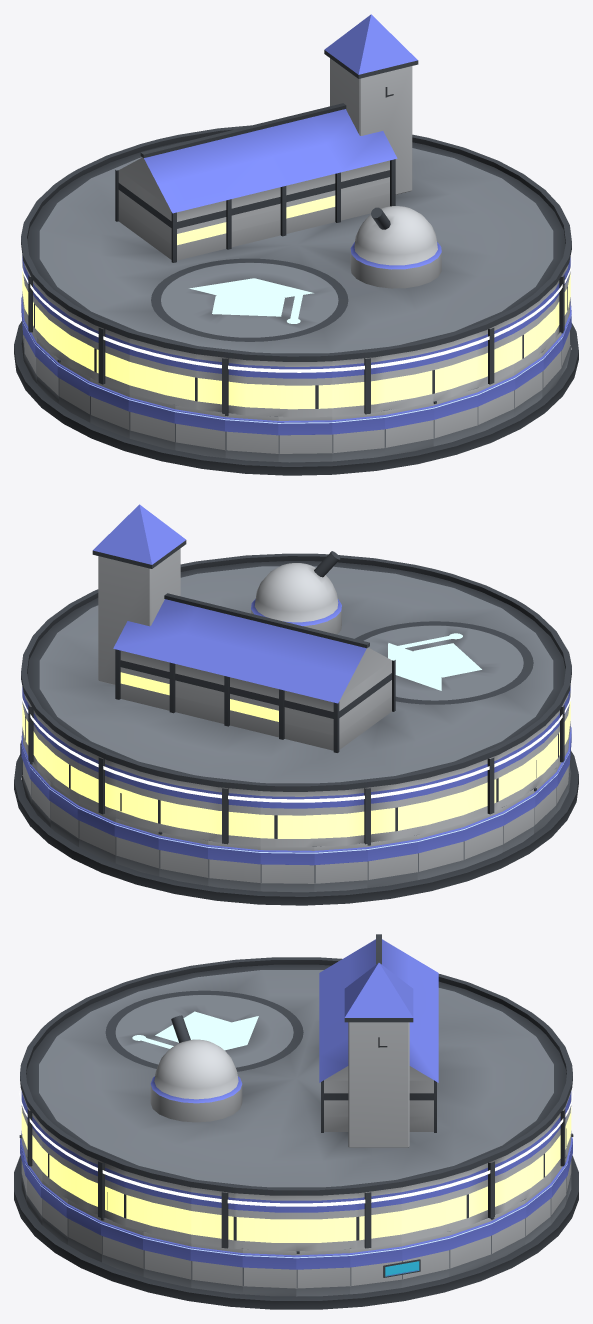
File: academy_m.glb
3 views of the same model, one above another, from view 1: azimuth 30°, elevation 25°; view 2: azimuth 150°, elevation 25°; view 3: azimuth 270°, elevation 25° (orthographic).
Parts seen in each view (by area): view 1: Roof, Base, Upper_21, Upper_20, Upper_22, Upper_19, Upper_23, Wall_21, Upper_18, Wall_20, Wall_22, Upper_24 (+19 smaller); view 2: Roof, Base, Upper_10, Upper_11, Upper_09, Upper_12, Upper_08, Wall_10, Upper_13, Wall_11, Wall_09, Wall_12 (+19 smaller); view 3: Roof, Base, Upper_00, Upper_31, Upper_01, Upper_30, Upper_02, Upper_29, Wall_31, Wall_00, Wall_30, Upper_03 (+20 smaller).
Part boxes in pixels (<box>): Roof: <box>21,14,571,361</box>; Base: <box>14,321,578,475</box>; Upper_21: <box>278,361,332,417</box>; Upper_20: <box>225,358,278,416</box>; Upper_22: <box>332,356,384,416</box>; Upper_19: <box>175,350,225,413</box>; Upper_23: <box>384,347,433,410</box>; Wall_21: <box>278,416,332,462</box>; Upper_18: <box>129,338,175,404</box>; Wall_20: <box>225,413,278,461</box>; Wall_22: <box>332,410,384,461</box>; Upper_24: <box>433,333,476,401</box>; Roof: <box>21,504,571,791</box>; Base: <box>14,751,578,905</box>; Upper_10: <box>260,791,314,847</box>; Upper_11: <box>314,787,367,846</box>; Upper_09: <box>208,786,260,846</box>; Upper_12: <box>367,780,417,843</box>; Upper_08: <box>159,776,208,840</box>; Wall_10: <box>260,846,314,892</box>; Upper_13: <box>417,768,463,834</box>; Wall_11: <box>314,843,367,891</box>; Wall_09: <box>208,840,260,891</box>; Wall_12: <box>367,835,418,887</box>; Roof: <box>20,934,572,1195</box>; Base: <box>14,1155,578,1309</box>; Upper_00: <box>296,1194,349,1251</box>; Upper_31: <box>243,1194,296,1251</box>; Upper_01: <box>350,1187,401,1248</box>; Upper_30: <box>191,1187,242,1248</box>; Upper_02: <box>401,1176,448,1242</box>; Upper_29: <box>144,1176,191,1242</box>; Wall_31: <box>242,1249,296,1296</box>; Wall_00: <box>296,1249,350,1296</box>; Wall_30: <box>190,1243,242,1294</box>; Upper_03: <box>449,1162,492,1231</box>.
Bounding box in the file's own units: 14.75 × 8.2 × 14.75.
